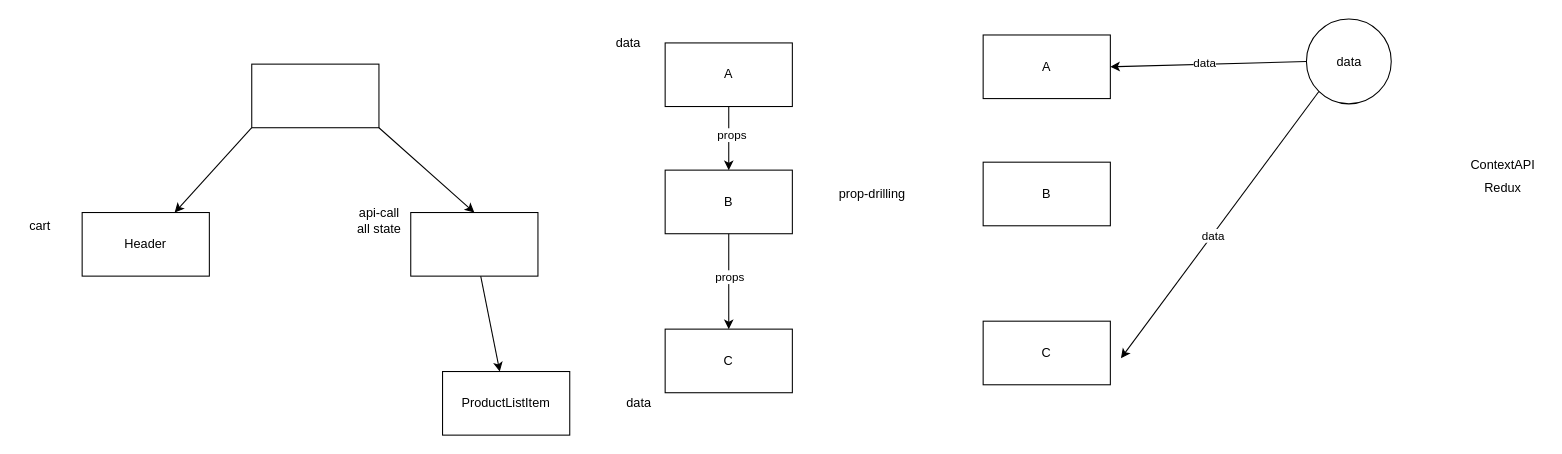
This 1562x454 diagram has some shape labels left out. Here are the shapes that lost their labels. From the top down, the centre of each, then its label:
At (x=315, y=95): "App".
At (x=474, y=243): "ProductList".
